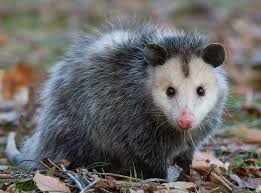opossum: (8, 17, 231, 176)
